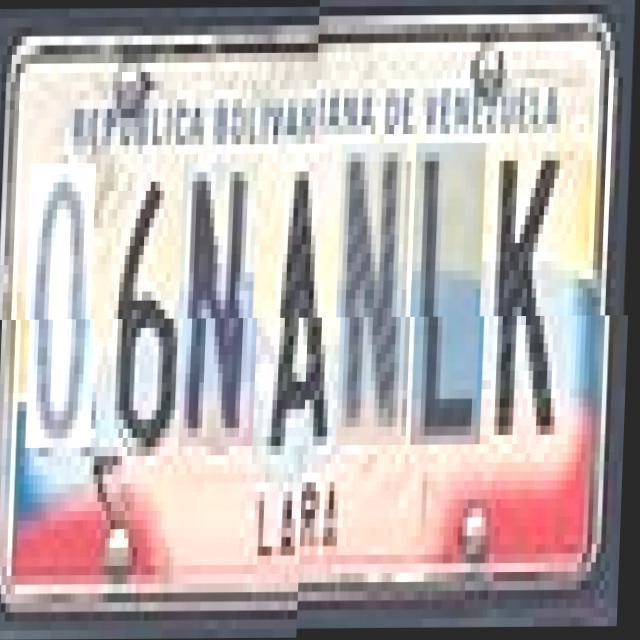0: (339, 154, 413, 456)
E: (182, 163, 264, 447)
L: (414, 153, 492, 455)
N: (182, 163, 264, 447), (339, 154, 413, 456)
O: (414, 153, 492, 455), (28, 164, 102, 448)
